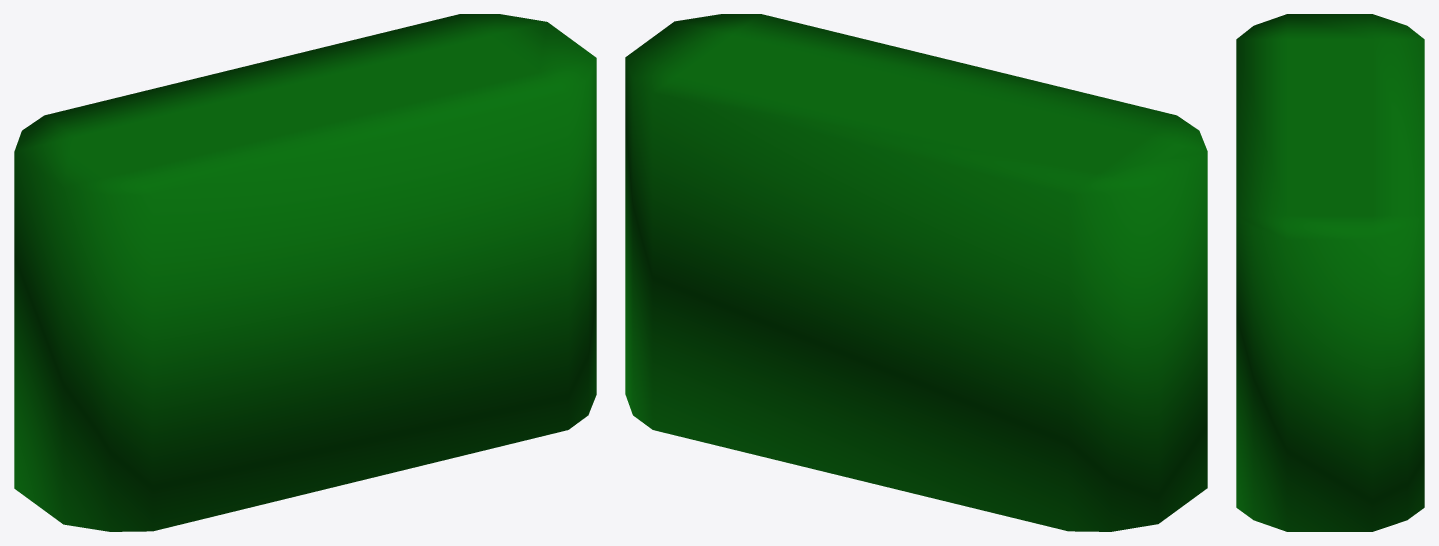
Rendered from yeşil çit.fbx.
3 renders of one model, left to right at view 1: azimuth 30°, elevation 25°; view 2: azimuth 150°, elevation 25°; view 3: azimuth 270°, elevation 25°, orthographic. The views are drawn at different scales.
Visible parts, largest first — view 1: Cube; view 2: Cube; view 3: Cube.
Part boxes in pixels (x1,y1,x2,y2): Cube: [14, 14, 596, 531]; Cube: [625, 14, 1207, 531]; Cube: [1236, 14, 1424, 531].
Bounding box in the file's own units: 332 × 200 × 117.
